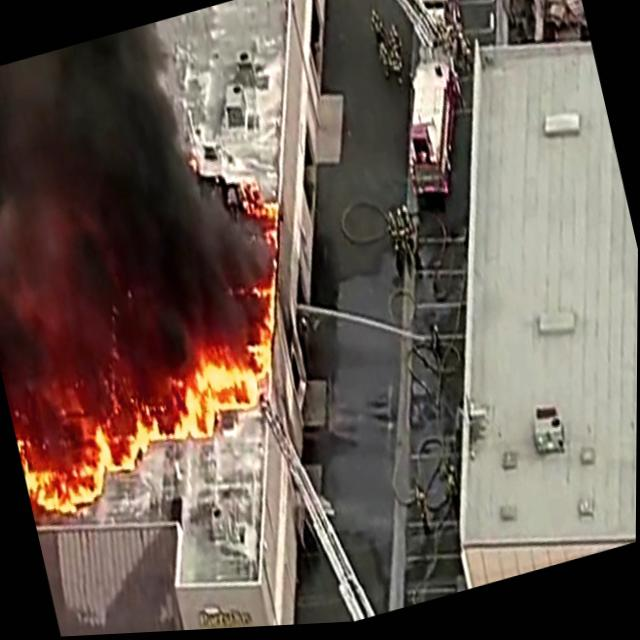fire: (15, 397, 167, 515), (165, 339, 270, 439)
smoke: (0, 106, 229, 381)
